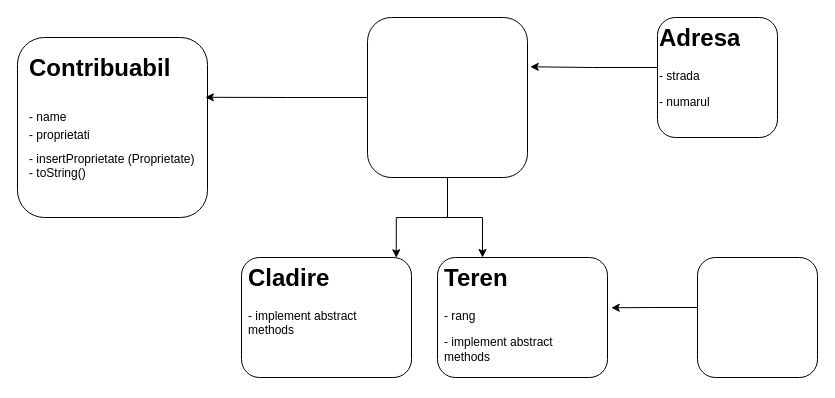
Some shapes in this 835 by 398 pixel diagram are drawn without their labels. Each missing label, with the centre of its shape:
"Proprietate - adresa - suprafata <<getCost>> <<toString>>" belongs at (447,97).
"Rang ONE(1), TWO(2), THREE(3), FOUR(4)" belongs at (757,317).
